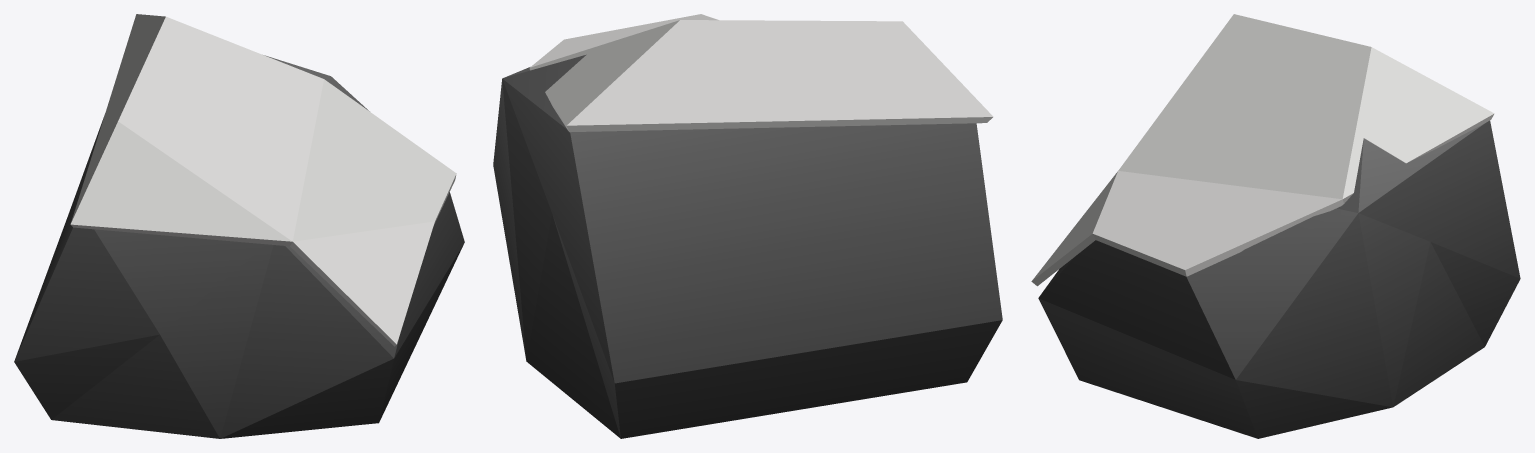
File: Rock2.fbx
3 views of the same model, side by side, from view 1: azimuth 30°, elevation 25°; view 2: azimuth 150°, elevation 25°; view 3: azimuth 270°, elevation 25° (orthographic). The views are drawn at different scales.
Parts seen in each view (by area): view 1: Rock_1; view 2: Rock_1; view 3: Rock_1.
Part boxes in pixels (x1,y1,x2,y2): Rock_1: [14, 14, 464, 438]; Rock_1: [493, 14, 1002, 438]; Rock_1: [1031, 14, 1520, 438].
Size of the model in its own units: 63.31 by 42.7 by 62.32.
2 materials, 1 textured.
